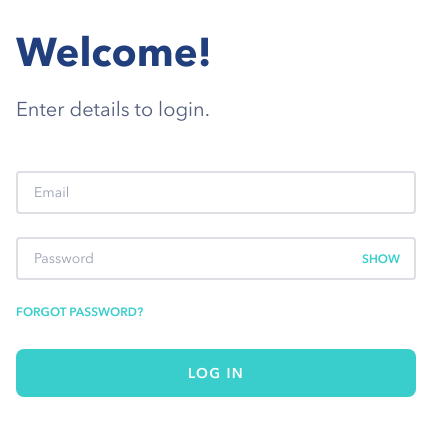
Test: LoginForm (integration) › shows validation error for invalid email
The image size is (433, 433).
Type "invalid" into the field with placeholder "Email".
click(216, 192); type("invalid")  # box [18,173,414,212]
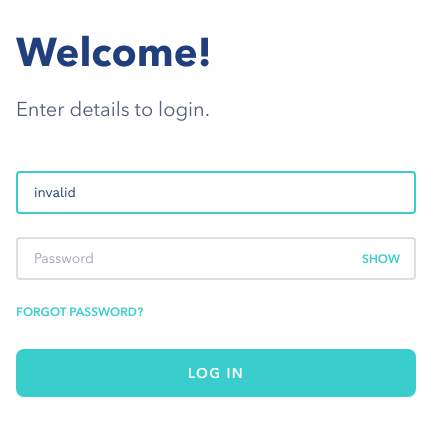
Type "password123" into the password field with placeholder "Password".
click(216, 258); type("password123")  # box [18,239,414,278]
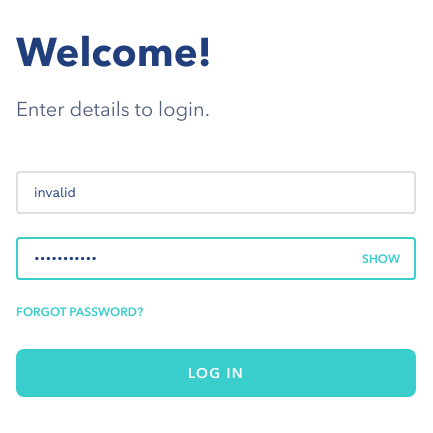
Click the button "Log in".
click(216, 373)  # box [16,349,416,397]
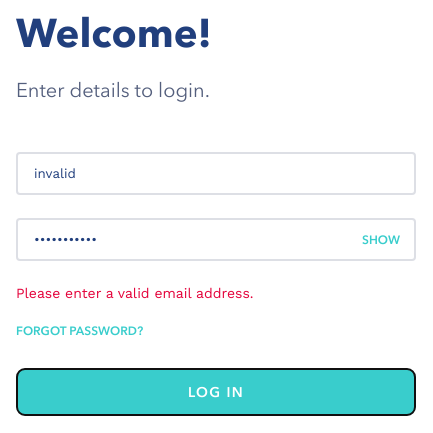
Result: the text "Please enter a valid email address." is shown at [16,285,254,301]
